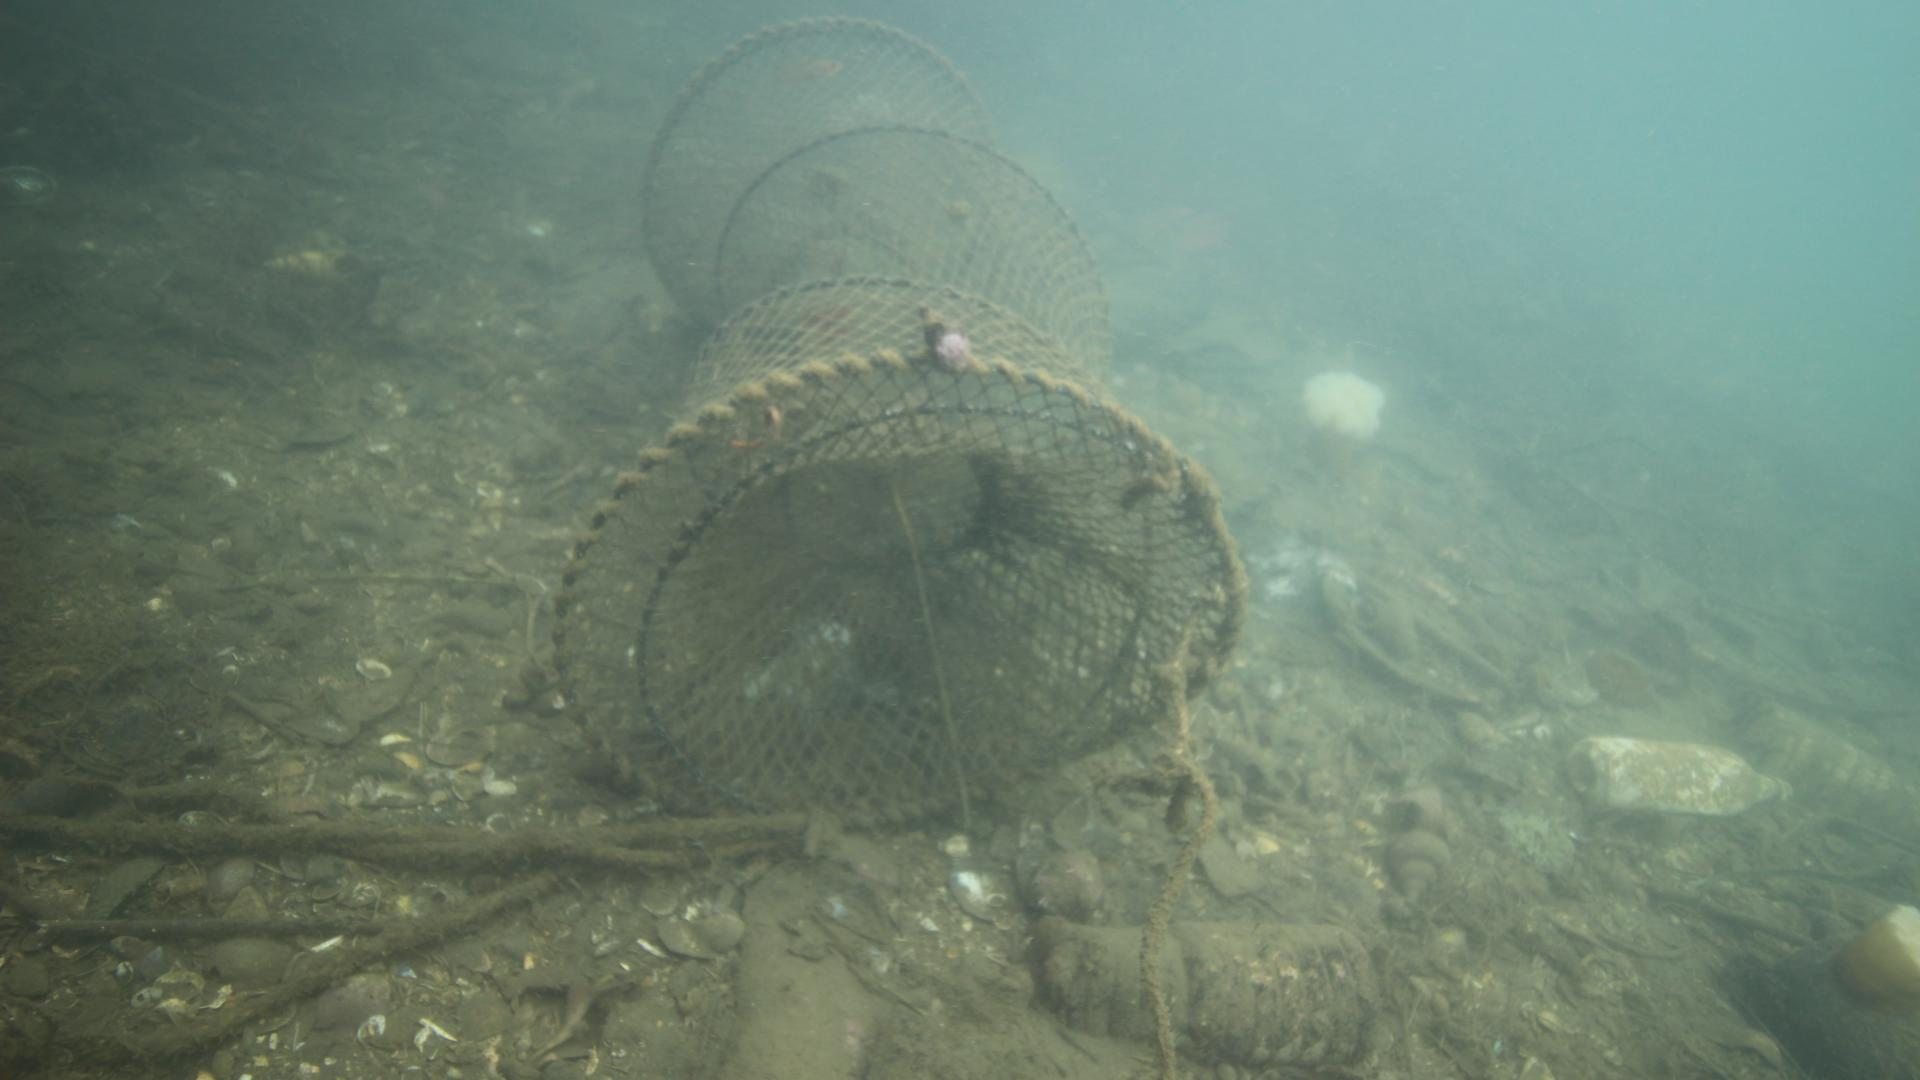rope: (1137, 628, 1221, 1073)
spring fish trap: (549, 12, 1244, 835)
